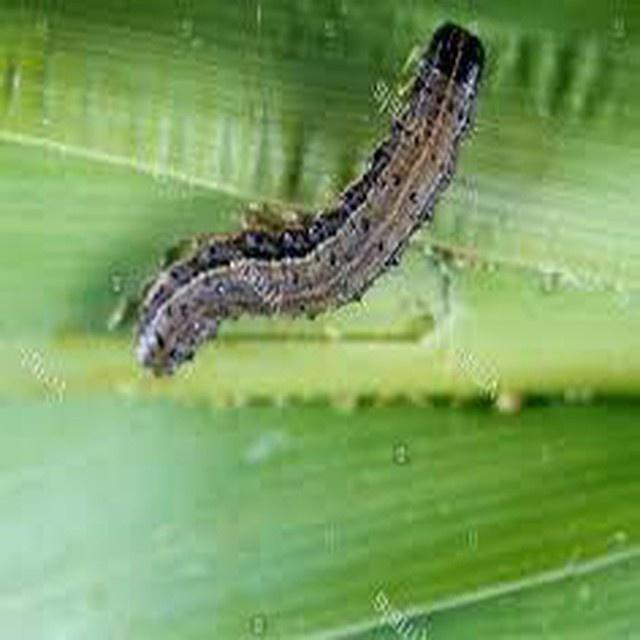gusano_cogollero: (142, 25, 484, 380)
